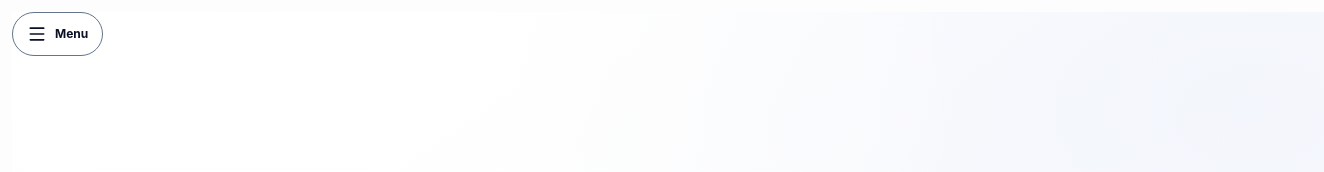
Test: PortalNavigation › provides every client section before the utility actions in a mobile sheet
Later steps or results of the test are not shown.
Click the button with aria-label "Open portal menu" at coordinates (58, 34), box [12, 12, 103, 56]
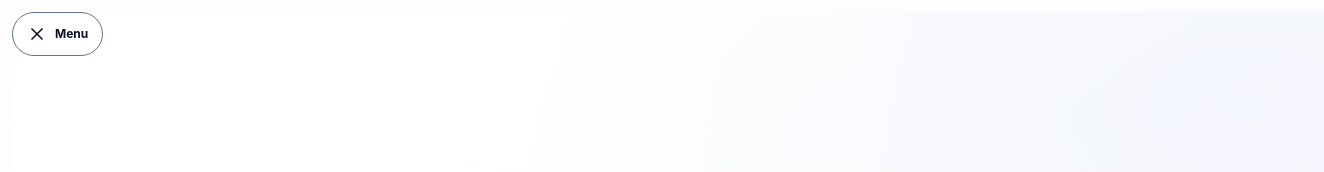
Check: the button with aria-label "Close portal menu" is expanded, box [12, 12, 103, 56]
